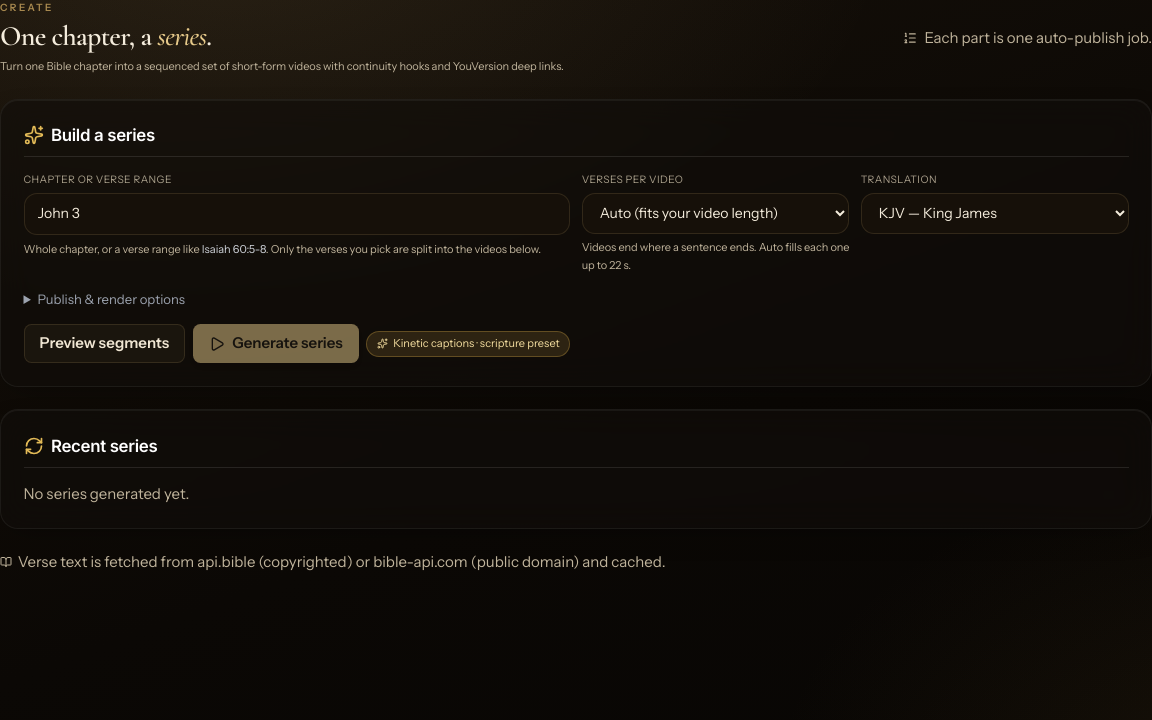
Test: SeriesPage: AI motion › a normal account sees no AI motion option and never asks for the rates
What coordinates should you click on to do the following:
click the button "Preview segments"
I would click on:
 (104, 344)
Its box is [24,324,185,364].
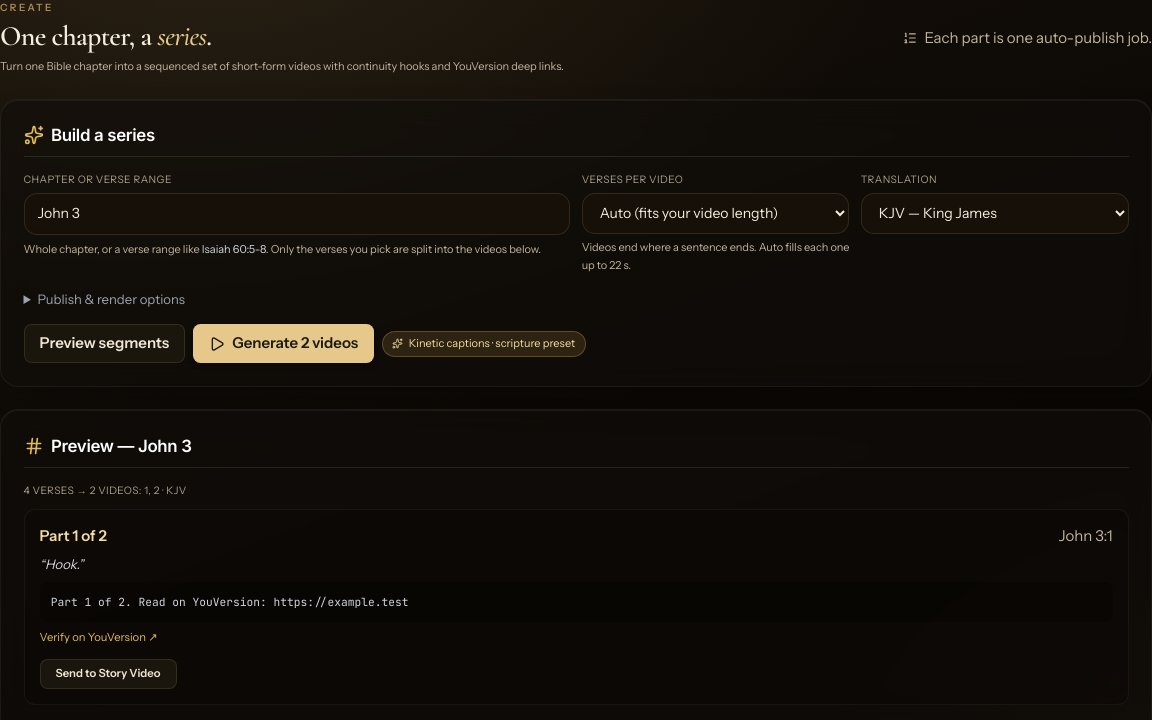
Now the text "Part 1 of 2" is shown, box [40,525,107,548]
